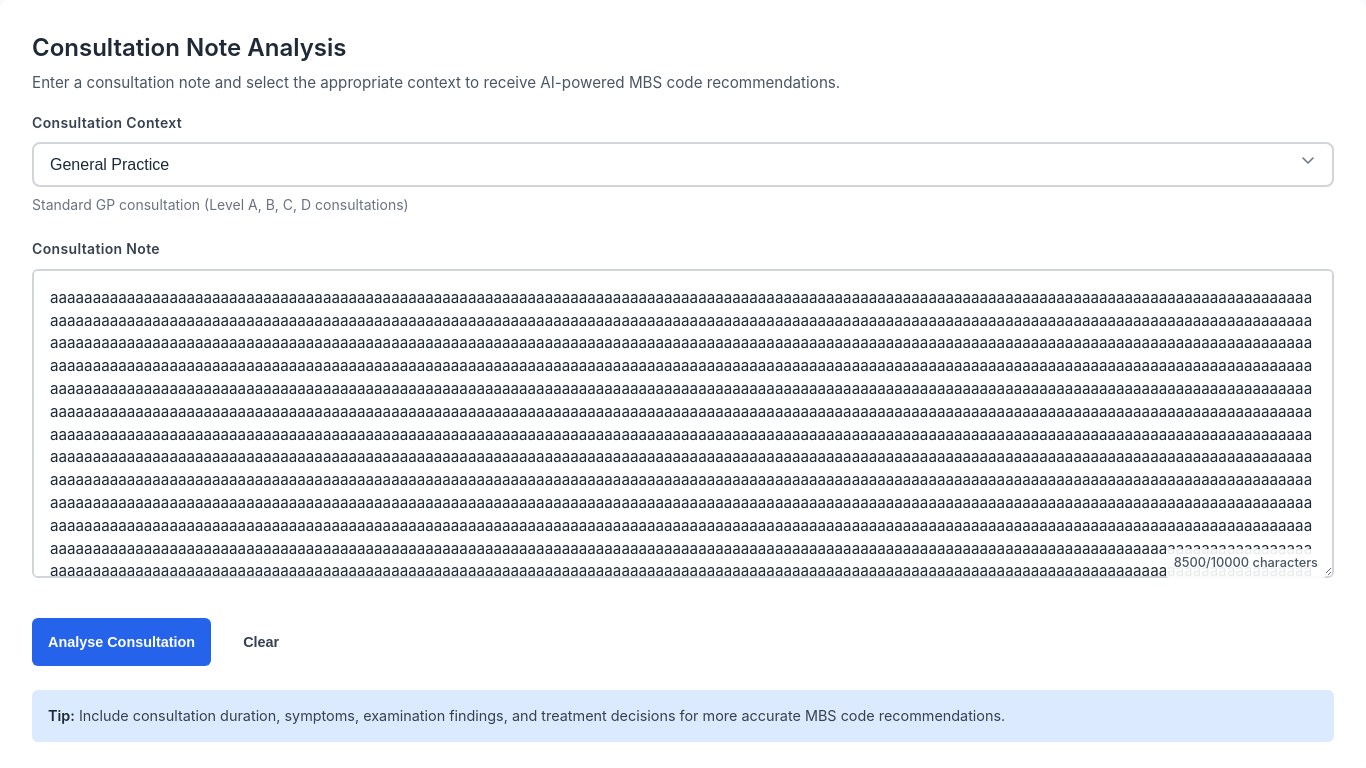
Test case: ConsultationInput › Validation States › should show warning state when approaching character limit
The width and height of the screenshot is (1366, 768).
# Trigger user interaction by typing one character
Step 1. Type "b" into the text box labelled "Consultation Note" → (683, 424), box [32,269,1334,578]
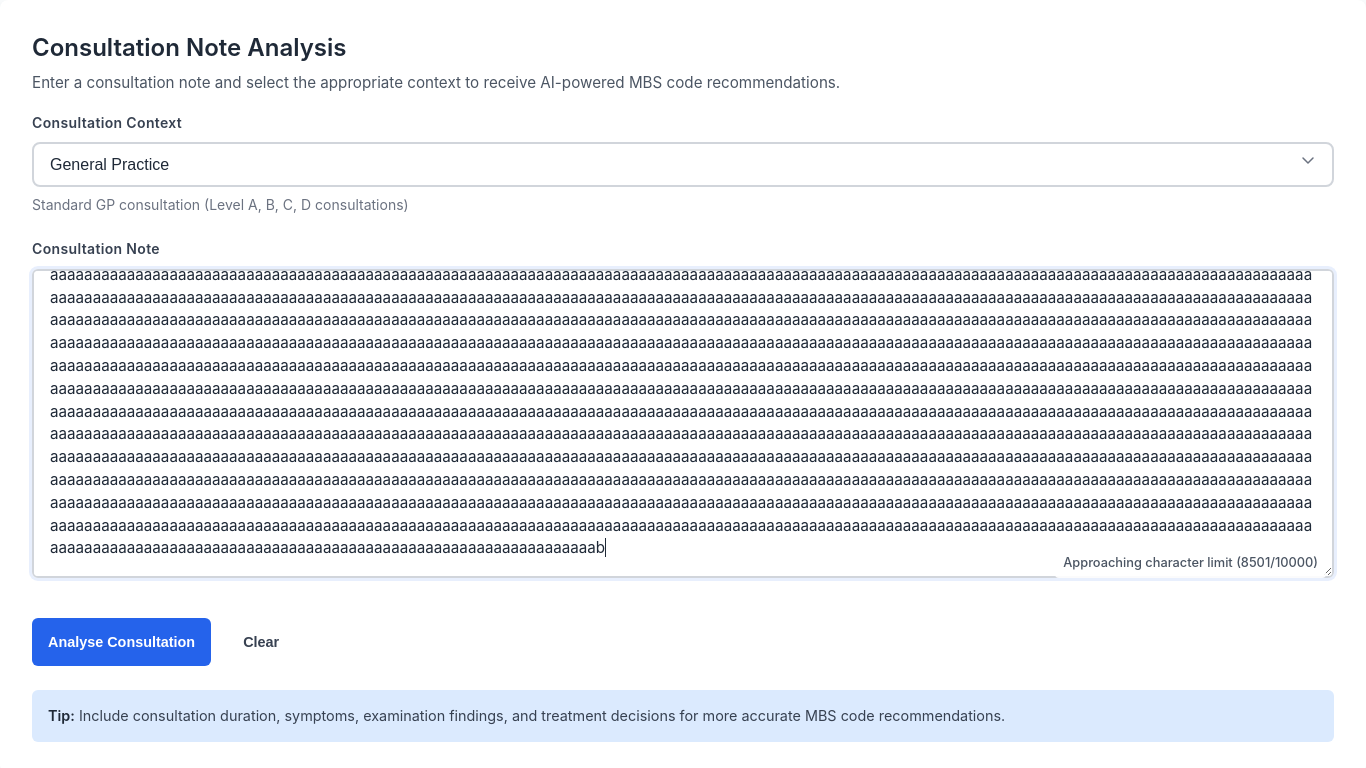
expect the text "Approaching character limit (8501/10000)" is shown: met, box [1055,549,1326,578]
